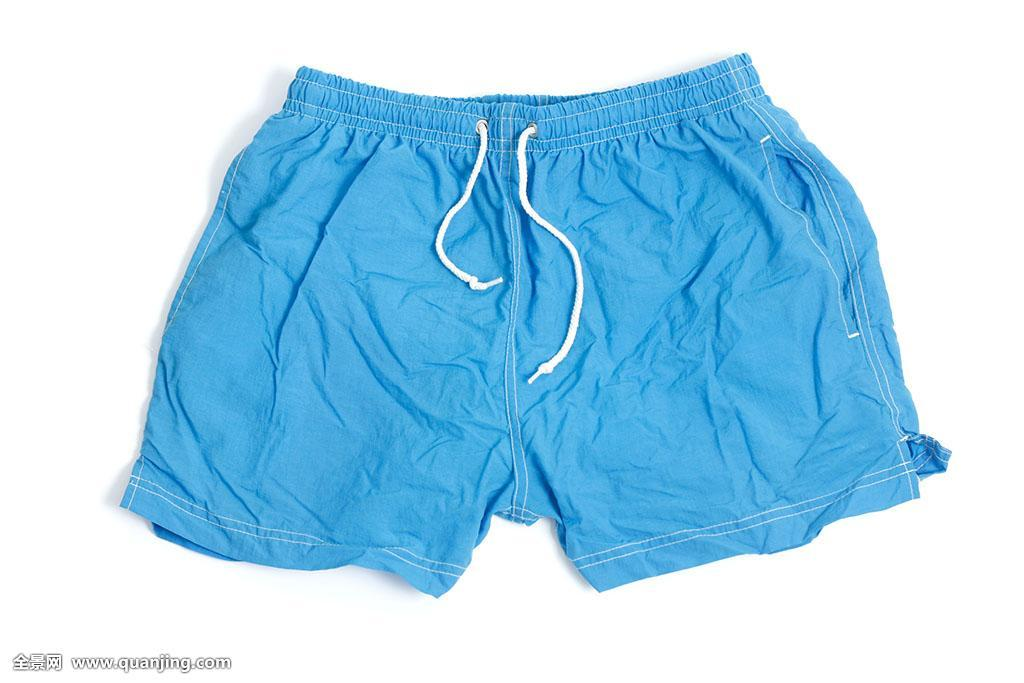flexible: (115, 61, 954, 598)
